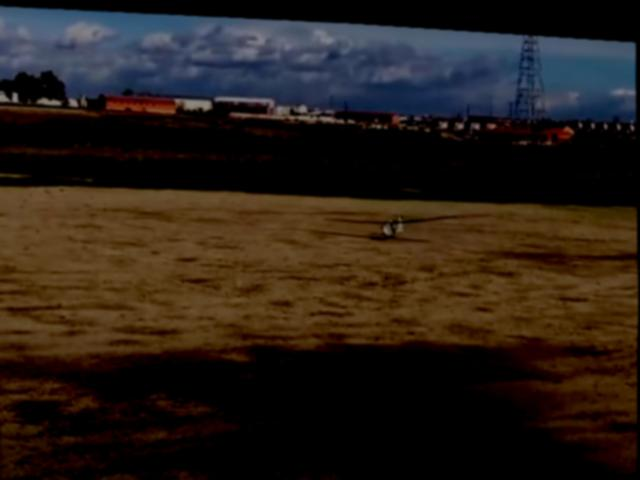iha: (319, 191, 474, 235)
